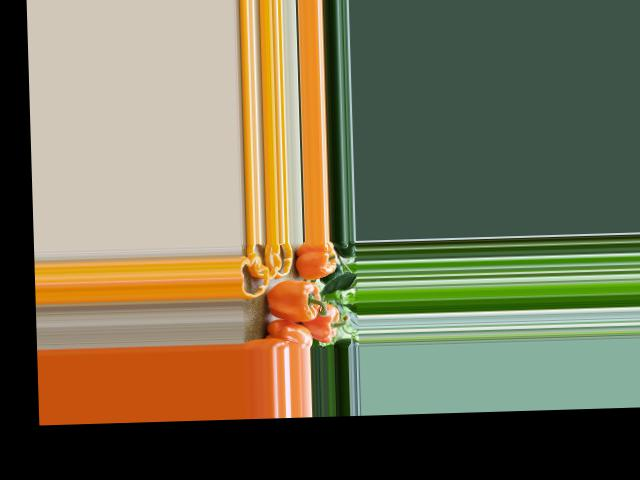bell_pepper: (263, 319, 314, 348)
